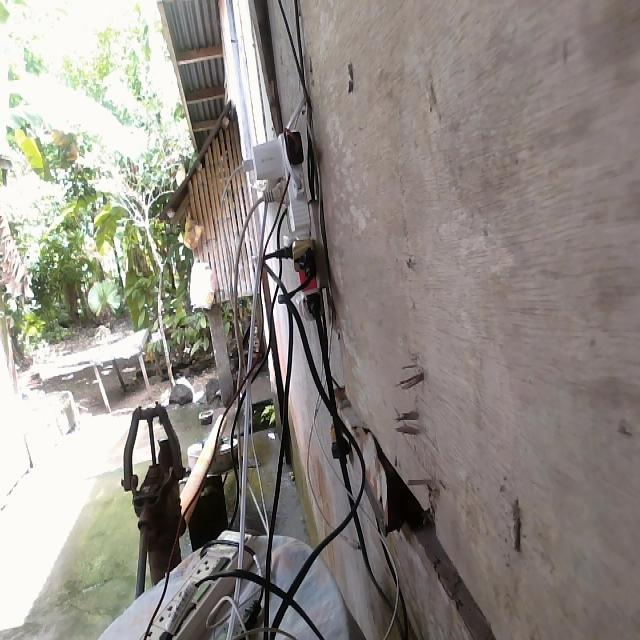-: (239, 119, 324, 328)
